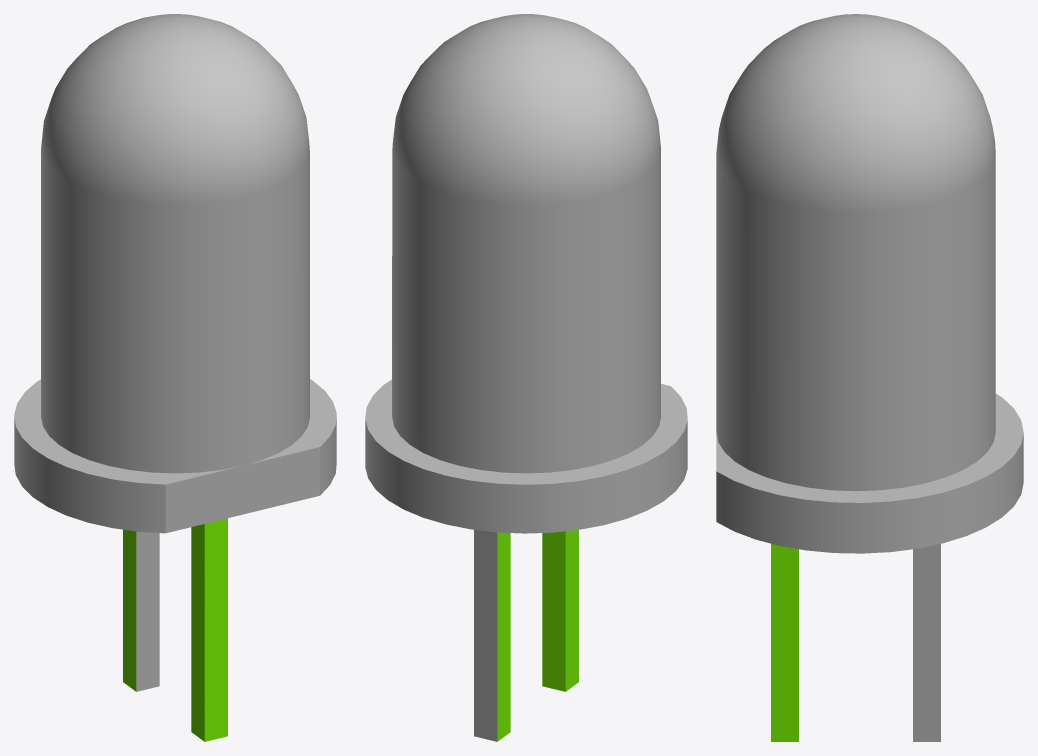
Rendered from LED_5mm_Green.fbx.
3 renders of one model, left to right at view 1: azimuth 30°, elevation 25°; view 2: azimuth 150°, elevation 25°; view 3: azimuth 270°, elevation 25°, orthographic. The views are drawn at different scales.
Parts seen in each view (by area): view 1: LED_5mm_Green; view 2: LED_5mm_Green; view 3: LED_5mm_Green.
Part boxes in pixels (bbox=[...]): LED_5mm_Green: bbox=[14, 14, 336, 741]; LED_5mm_Green: bbox=[365, 14, 687, 741]; LED_5mm_Green: bbox=[716, 14, 1023, 741].
Bounding box in the file's own units: 0.5996 × 1.4 × 0.55.
